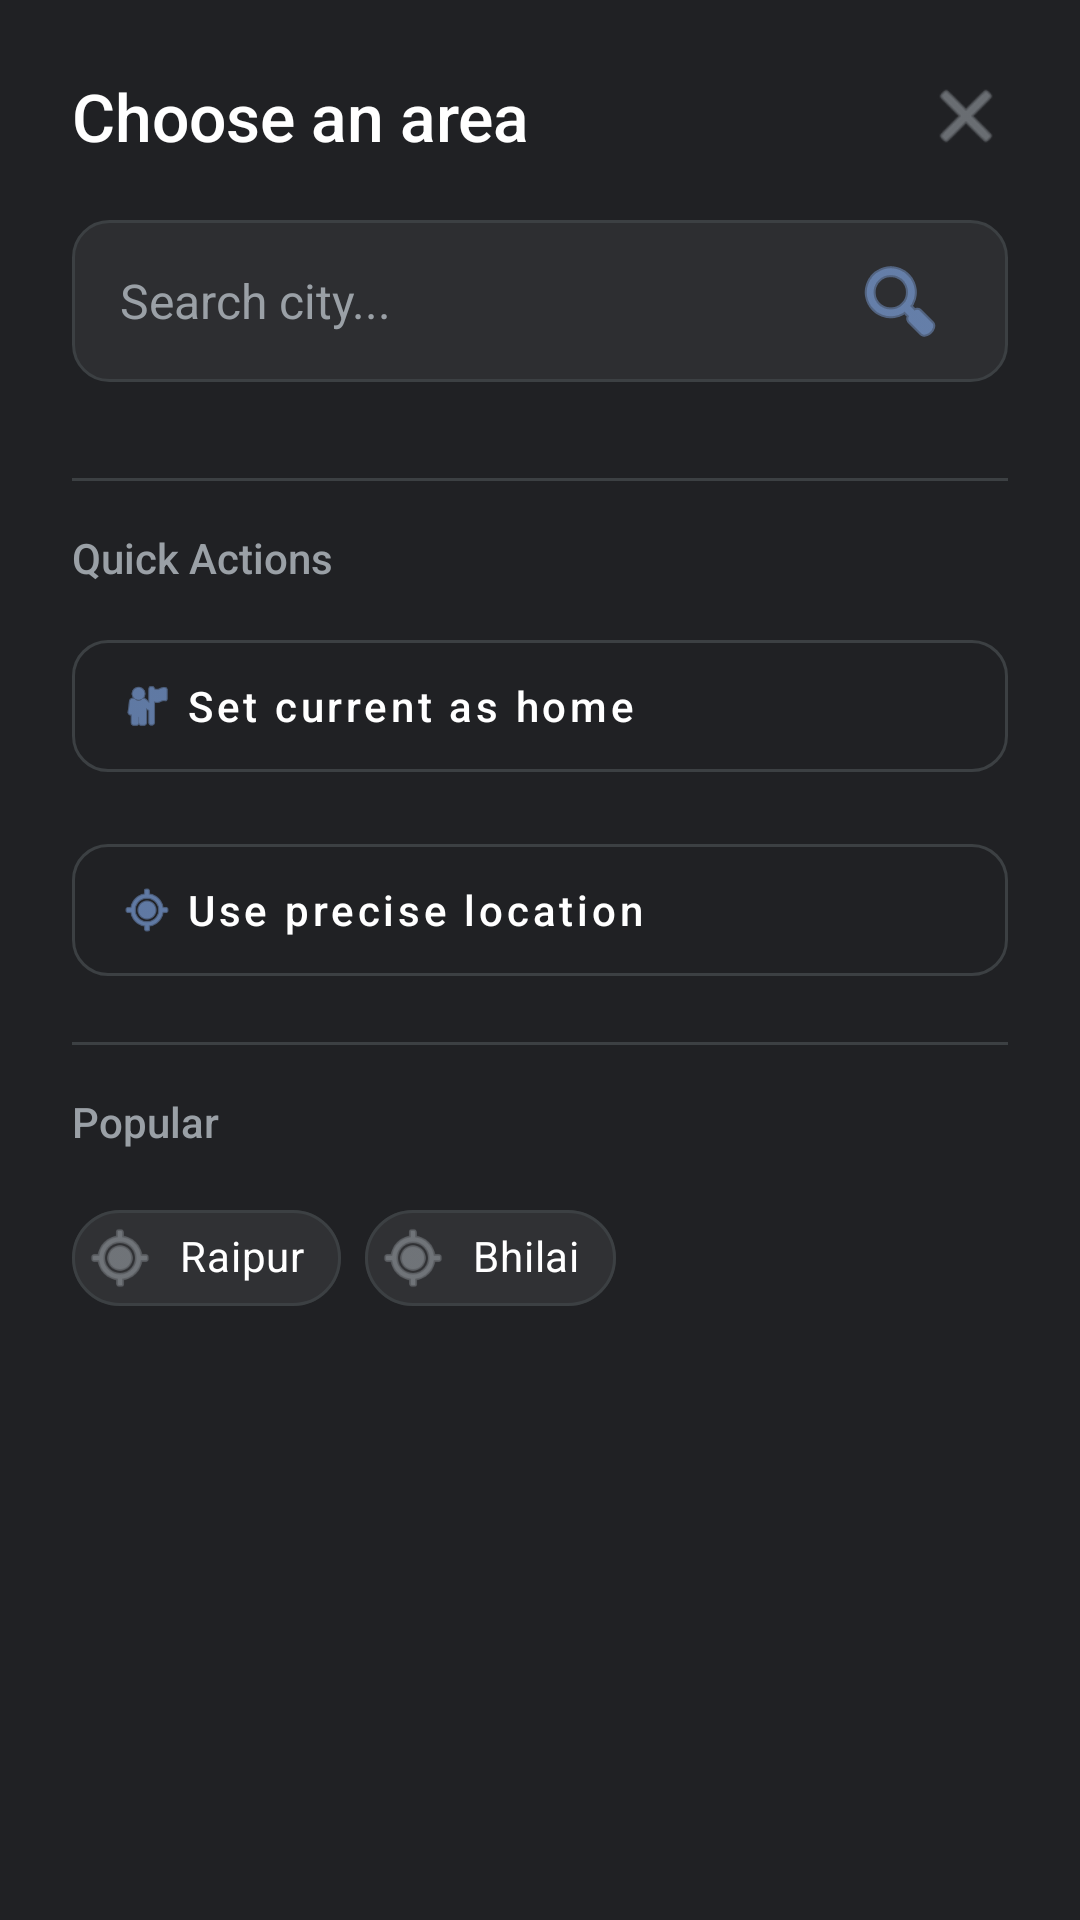

Icon click points for this 1080w x 1920h phone screenshot, format point (x, y):
close clear cancel: point (966, 116)
